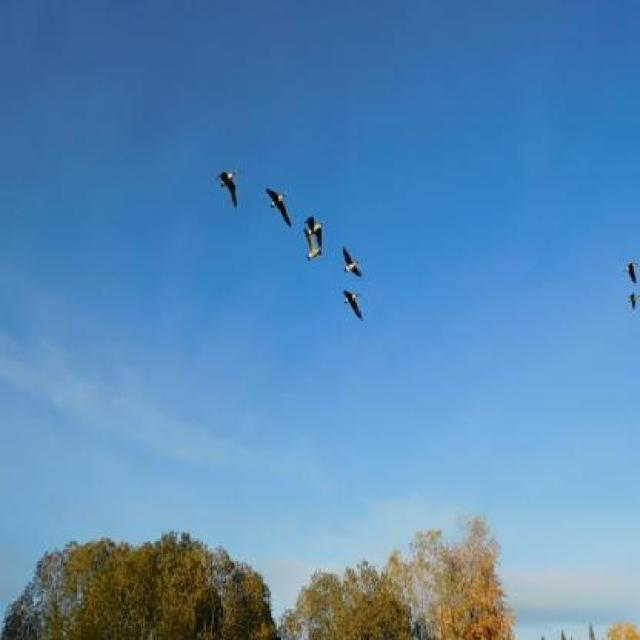bird: (264, 183, 293, 229), (213, 164, 239, 211), (302, 225, 323, 267), (304, 216, 327, 252), (341, 245, 365, 277), (343, 289, 363, 323), (623, 258, 637, 285), (628, 289, 638, 309)
